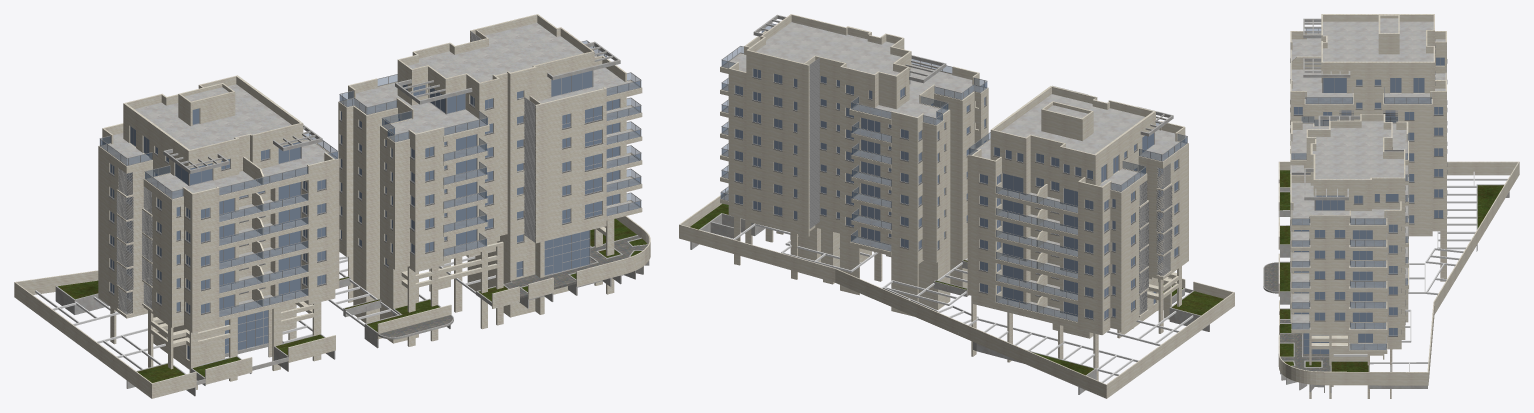
File: residential-building.glb
3 renders of one model, left to right at view 1: azimuth 30°, elevation 25°; view 2: azimuth 150°, elevation 25°; view 3: azimuth 270°, elevation 25°, orthographic. The views are drawn at different scales.
Parts seen in each view (by area): view 1: Rectangle001, Line855, Line128, Rectangle002, Line162, Line127, Rectangle005, Rectangle087, Rectangle082, Line117, Line004, Rectangle095 (+51 smaller); view 2: Rectangle031, Line855, Rectangle690, Line128, Rectangle029, Rectangle030, Rectangle109, Rectangle111, Line162, Rectangle095, Line127, Rectangle110 (+36 smaller); view 3: Line855, Rectangle023, Line128, Line162, Line074, Rectangle106, Line006, Line127, Line117, Line064, Line044, Rectangle058 (+43 smaller).
Boxes of the visible parts, left/top/right/bottom form: Rectangle001: left=535, top=88, right=606, bottom=243; Line855: left=14, top=216, right=650, bottom=398; Line128: left=408, top=23, right=583, bottom=82; Rectangle002: left=509, top=66, right=536, bottom=317; Line162: left=134, top=84, right=291, bottom=149; Line127: left=341, top=55, right=639, bottom=141; Rectangle005: left=414, top=127, right=444, bottom=272; Rectangle087: left=307, top=159, right=335, bottom=304; Rectangle082: left=191, top=187, right=219, bottom=333; Line117: left=101, top=133, right=335, bottom=198; Line004: left=353, top=105, right=368, bottom=323; Rectangle095: left=98, top=145, right=128, bottom=318; Rectangle031: left=746, top=50, right=809, bottom=236; Line855: left=679, top=190, right=1234, bottom=398; Rectangle690: left=891, top=111, right=918, bottom=316; Line128: left=756, top=22, right=901, bottom=75; Rectangle029: left=840, top=66, right=875, bottom=295; Rectangle030: left=815, top=55, right=844, bottom=284; Rectangle109: left=972, top=155, right=996, bottom=309; Rectangle111: left=1078, top=181, right=1101, bottom=334; Line162: left=1001, top=94, right=1144, bottom=154; Rectangle095: left=1120, top=173, right=1147, bottom=332; Line127: left=723, top=53, right=985, bottom=124; Rectangle110: left=1029, top=134, right=1065, bottom=308; Line855: left=1278, top=161, right=1519, bottom=385; Rectangle023: left=1309, top=215, right=1350, bottom=335; Line128: left=1308, top=121, right=1403, bottom=179; Line162: left=1323, top=21, right=1433, bottom=61; Line074: left=1321, top=61, right=1434, bottom=120; Rectangle106: left=1383, top=103, right=1432, bottom=236; Line006: left=1348, top=210, right=1401, bottom=349; Line127: left=1291, top=123, right=1407, bottom=225; Line117: left=1291, top=34, right=1445, bottom=103; Line064: left=1430, top=91, right=1446, bottom=231; Line044: left=1315, top=179, right=1371, bottom=210; Rectangle058: left=1372, top=177, right=1403, bottom=209.
Bounding box in the file's own units: 71.94 × 34.61 × 35.42.
Materials: 12 (5 with a texture image).
